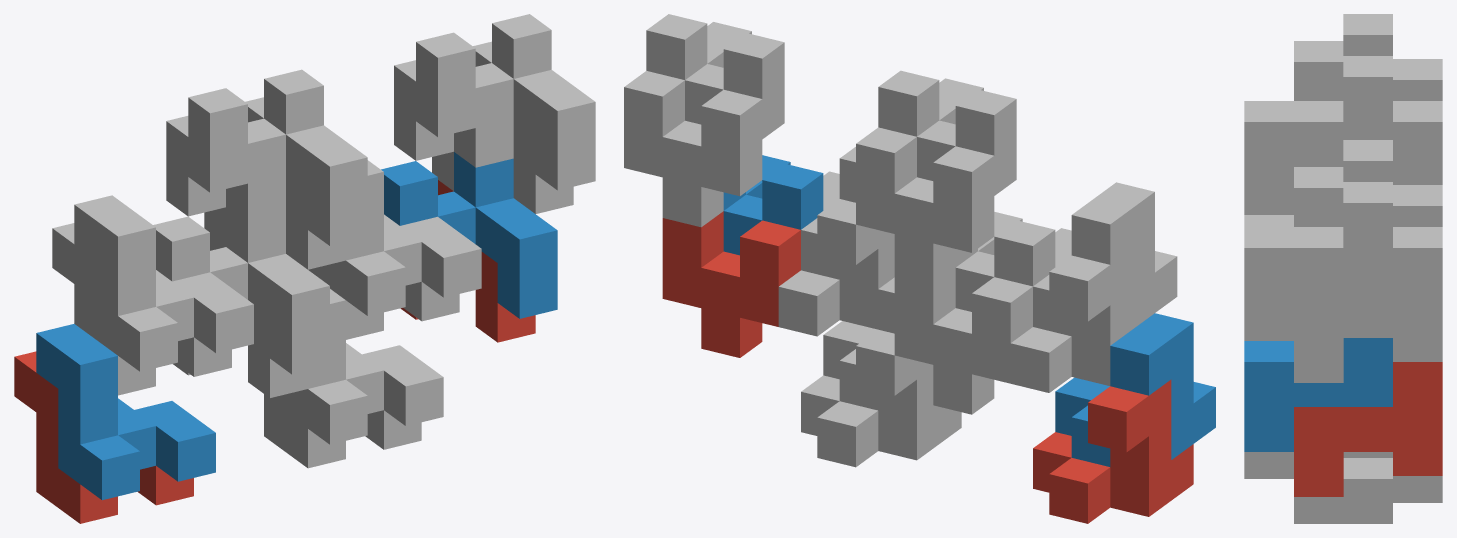
The model's file is tiling.obj.
The picture shows the model from 3 angles, left to right: view 1: azimuth 30°, elevation 25°; view 2: azimuth 150°, elevation 25°; view 3: azimuth 270°, elevation 25°; orthographic projection. The views are drawn at different scales.
Parts seen in each view (by area): view 1: copy_2_domain_8, copy_2_domain_4, copy_1_domain_2, copy_1_domain_4, copy_2_domain_6, copy_2_domain_2, copy_1_domain_8, copy_1_domain_6, copy_1_domain_1, copy_2_domain_7, copy_2_domain_3, copy_1_domain_3 (+4 smaller); view 2: copy_2_domain_7, copy_2_domain_3, copy_1_domain_1, copy_2_domain_1, copy_2_domain_5, copy_1_domain_5, copy_1_domain_3, copy_1_domain_2, copy_2_domain_8, copy_2_domain_4, copy_1_domain_4, copy_1_domain_7 (+4 smaller); view 3: copy_2_domain_8, copy_2_domain_7, copy_2_domain_4, copy_2_domain_5, copy_2_domain_6, copy_2_domain_3, copy_1_domain_5, copy_1_domain_4, copy_1_domain_8, copy_1_domain_6, copy_2_domain_2.
Boxes of the visible parts, x1,y1,x2,y2 form: copy_2_domain_8: (416, 14, 595, 190); copy_2_domain_4: (188, 69, 367, 245); copy_1_domain_2: (36, 324, 215, 500); copy_1_domain_4: (74, 195, 253, 371); copy_2_domain_6: (381, 152, 557, 318); copy_2_domain_2: (153, 207, 329, 374); copy_1_domain_8: (324, 160, 481, 315); copy_1_domain_6: (286, 289, 443, 444); copy_1_domain_1: (14, 351, 193, 523); copy_2_domain_7: (394, 41, 573, 213); copy_2_domain_3: (166, 97, 345, 269); copy_1_domain_3: (52, 223, 231, 395); copy_2_domain_7: (624, 71, 762, 227); copy_2_domain_3: (856, 127, 994, 283); copy_1_domain_1: (1033, 379, 1193, 523); copy_2_domain_1: (894, 268, 1032, 414); copy_2_domain_5: (662, 211, 800, 357); copy_1_domain_5: (801, 329, 961, 467); copy_1_domain_3: (1010, 249, 1132, 392); copy_1_domain_2: (1055, 313, 1215, 466); copy_2_domain_8: (646, 14, 784, 139); copy_2_domain_4: (878, 70, 1016, 195); copy_1_domain_4: (1033, 182, 1177, 336); copy_1_domain_7: (778, 199, 894, 336); copy_2_domain_8: (1244, 140, 1392, 337); copy_2_domain_7: (1294, 185, 1442, 382); copy_2_domain_4: (1244, 14, 1392, 211); copy_2_domain_5: (1294, 362, 1442, 496); copy_2_domain_6: (1244, 338, 1392, 451); copy_2_domain_3: (1393, 59, 1442, 184); copy_1_domain_5: (1294, 458, 1442, 523); copy_1_domain_4: (1244, 41, 1343, 214); copy_1_domain_8: (1244, 167, 1343, 340); copy_1_domain_6: (1244, 452, 1392, 478); copy_2_domain_2: (1244, 215, 1293, 226).
Size of the model in its own units: 13 by 9 by 4.
